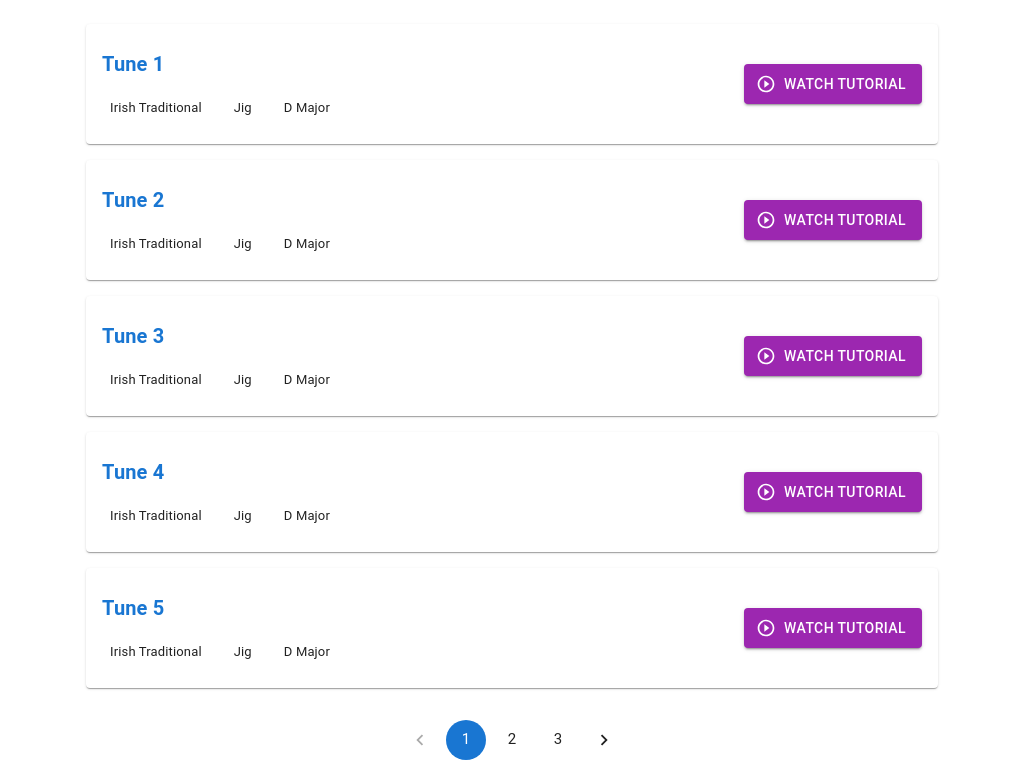
Test: SearchResults › Pagination › should update results count on page change
This screenshot has width=1024, height=768.
Click the button named "Go to page 2". click: (512, 740)
box: x1=492 y1=720 x2=532 y2=760
(page scrolled)
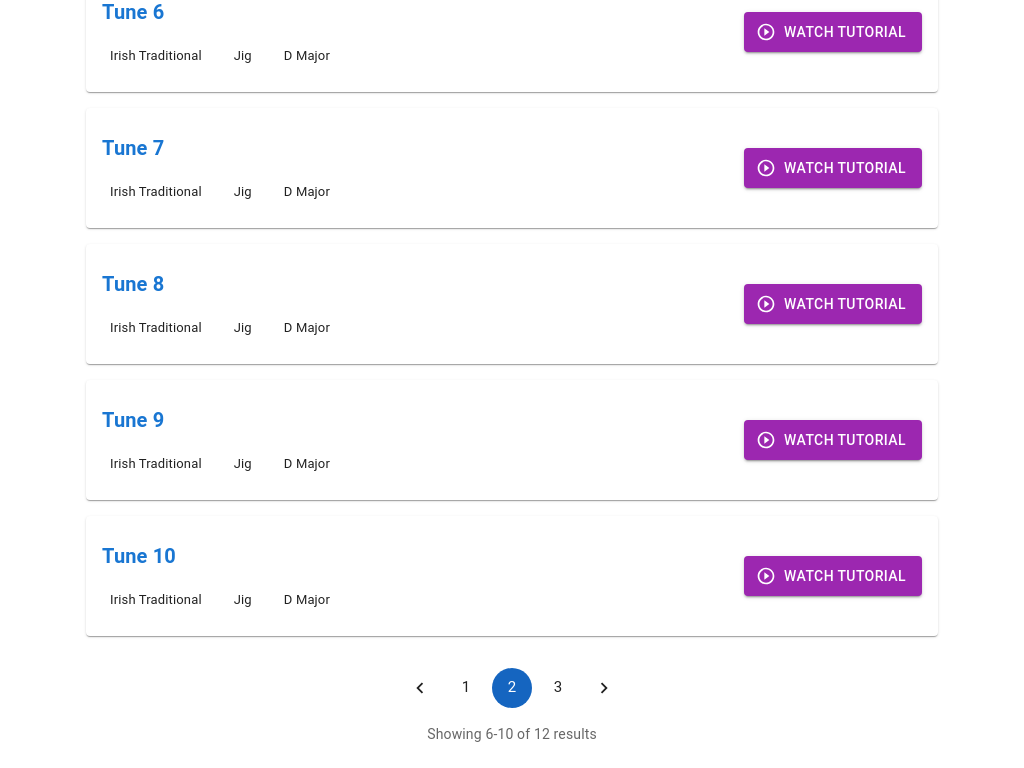
Result: the text "Showing 6-10 of 12 results" is shown at x1=427 y1=724 x2=597 y2=744
